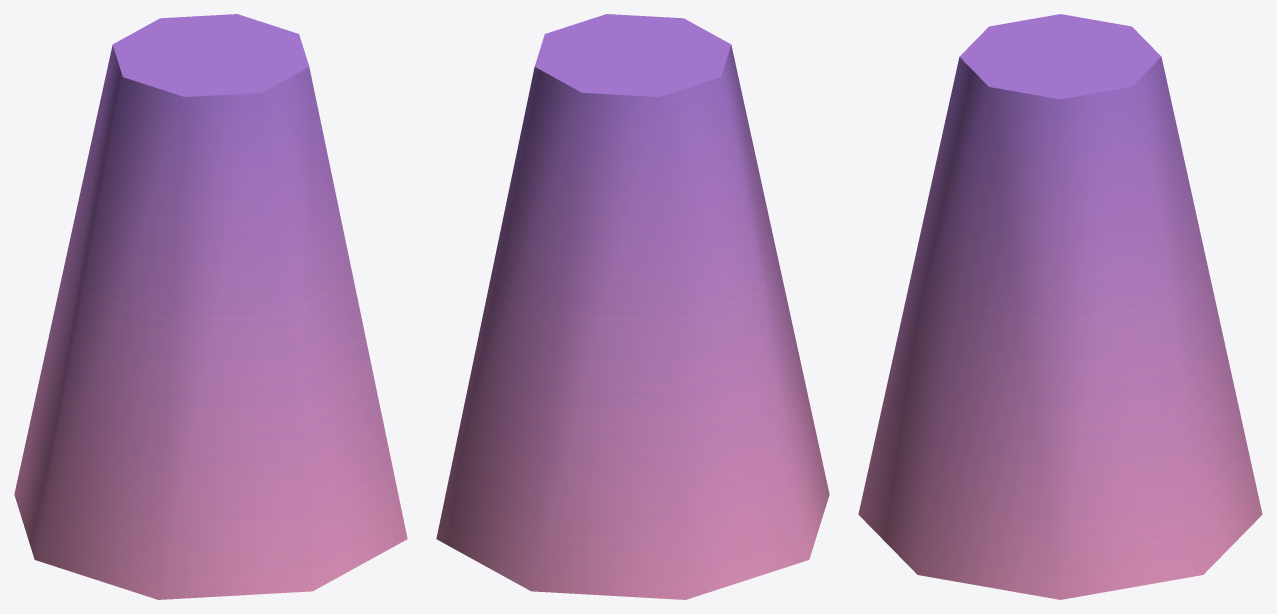
The model's file is enemy-ufo-beam.fbx.
The picture shows the model from 3 angles, left to right: view 1: azimuth 30°, elevation 25°; view 2: azimuth 150°, elevation 25°; view 3: azimuth 270°, elevation 25°; orthographic projection.
Visible parts, largest first — view 1: enemy-ufo-beam; view 2: enemy-ufo-beam; view 3: enemy-ufo-beam.
Part boxes in pixels (<box>): enemy-ufo-beam: <box>14,14,407,599</box>; enemy-ufo-beam: <box>436,14,829,599</box>; enemy-ufo-beam: <box>858,14,1262,599</box>.
Size of the model in its own units: 80 by 100 by 80.
